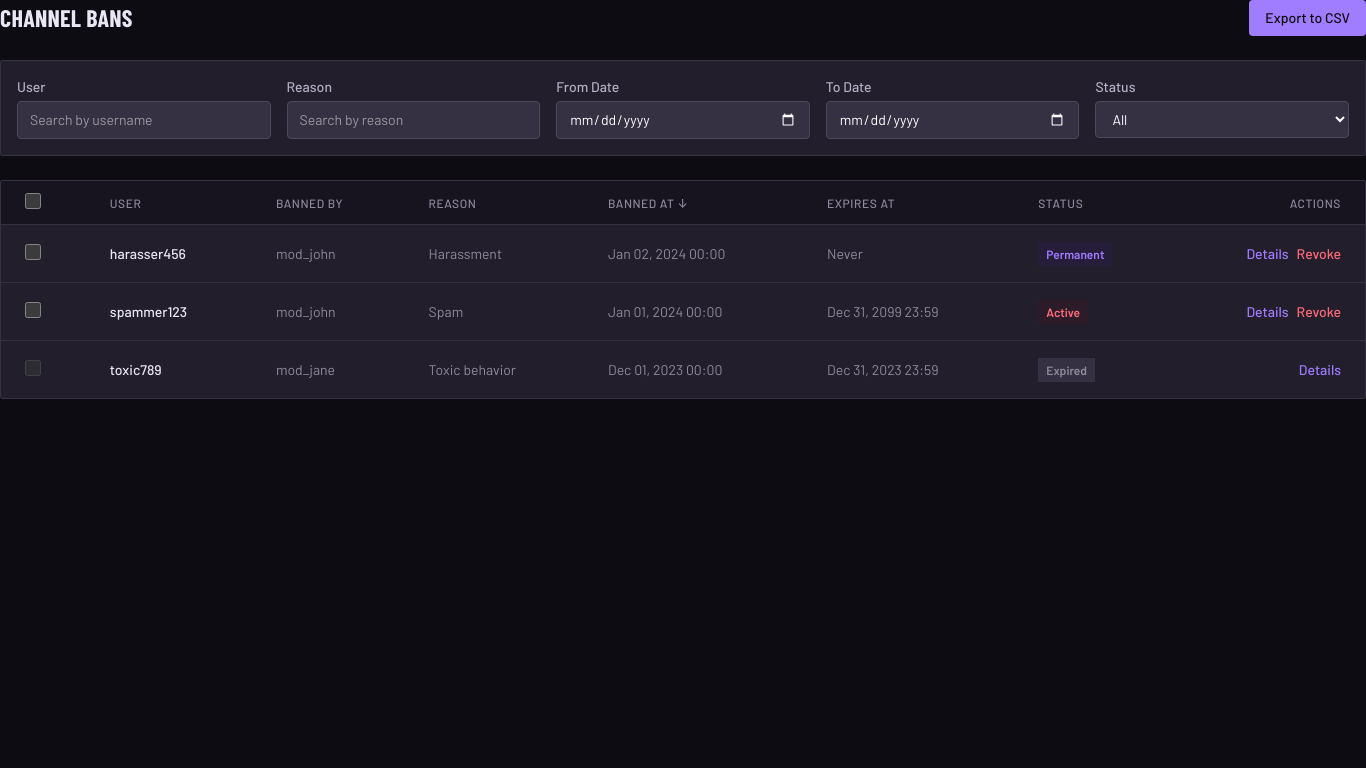
BanListViewer › Revoke Ban › closes revoke modal when cancel is clicked
Check: the text "spammer123" is shown, box top-left (86, 282), bottom-right (252, 340)
Click the button "Revoke" in the row of "harasser456" at coordinates (1319, 254), box top-left (1297, 244), bottom-right (1341, 264)
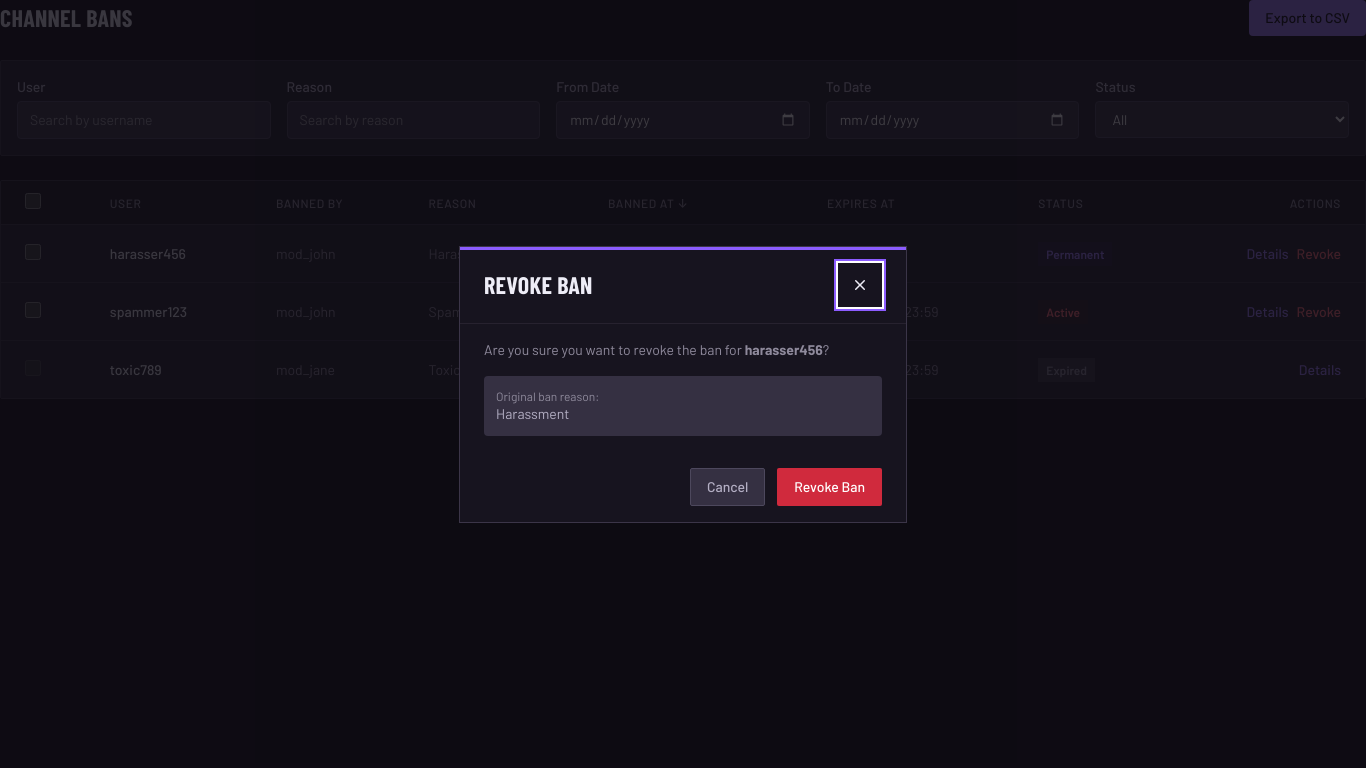
Check: the dialog is shown, box top-left (459, 246), bottom-right (907, 522)
Click the button "Cancel" at coordinates (728, 486), box top-left (690, 468), bottom-right (765, 506)
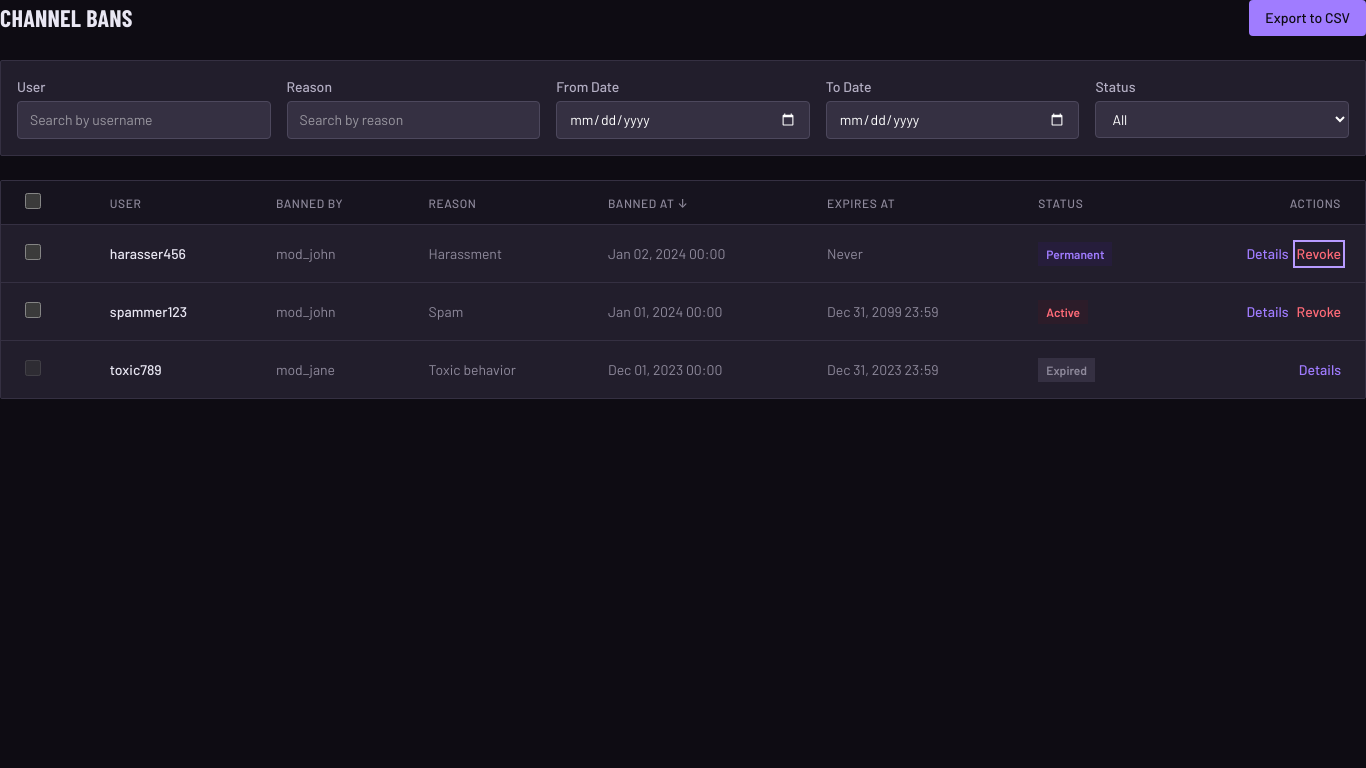
Check: the heading "Revoke Ban" is gone
